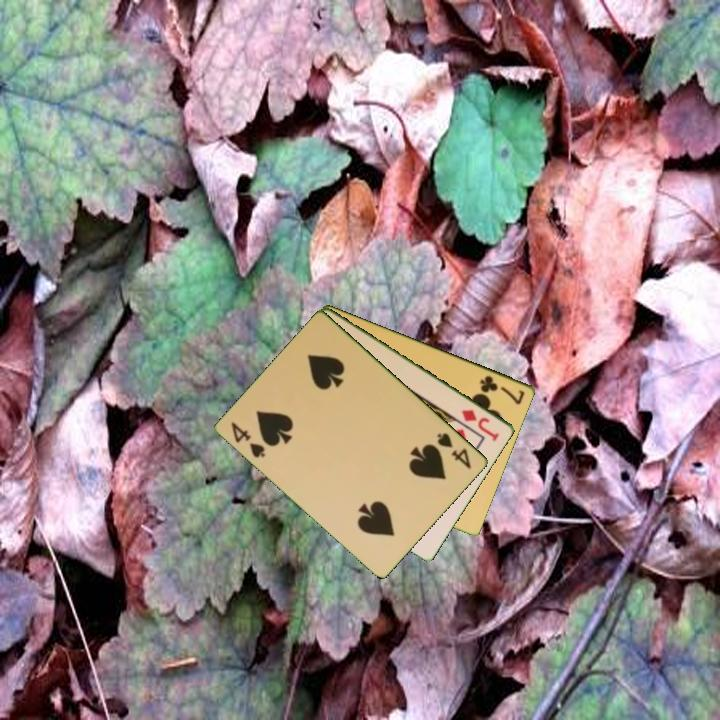4s: (228, 418, 269, 461), (434, 429, 474, 472)
7c: (477, 371, 528, 407)
Jd: (458, 406, 503, 444)
